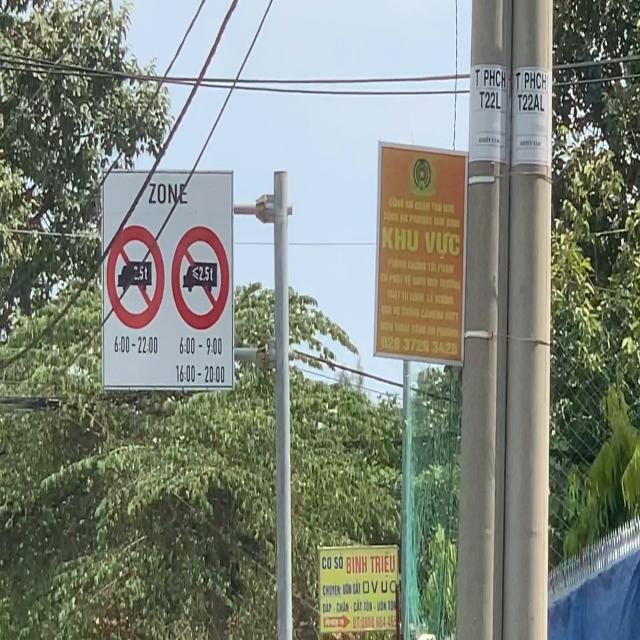bien_cam: (106, 225, 165, 330), (171, 227, 230, 331)
